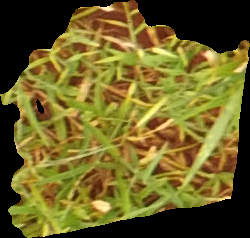grass: (1, 1, 249, 236)
